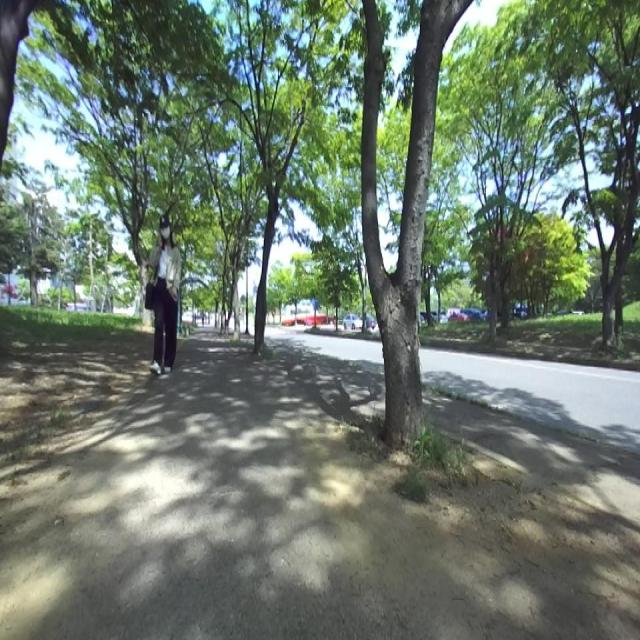sidewalk: (0, 332, 640, 640)
